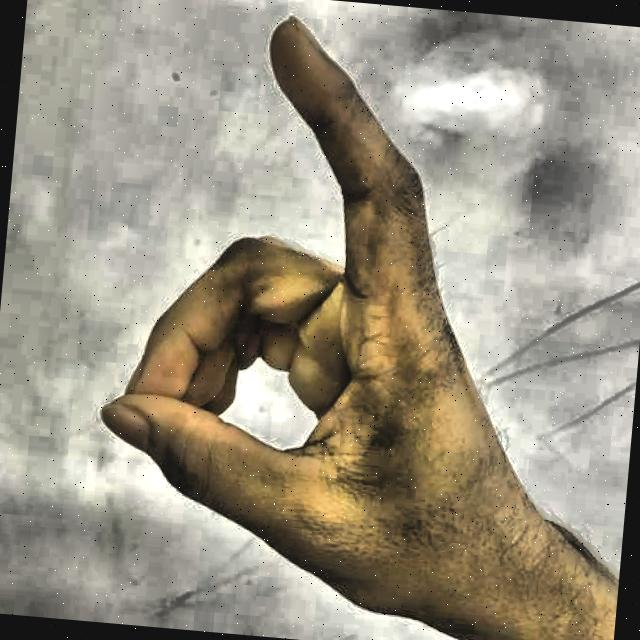Dha: (47, 0, 565, 640)
